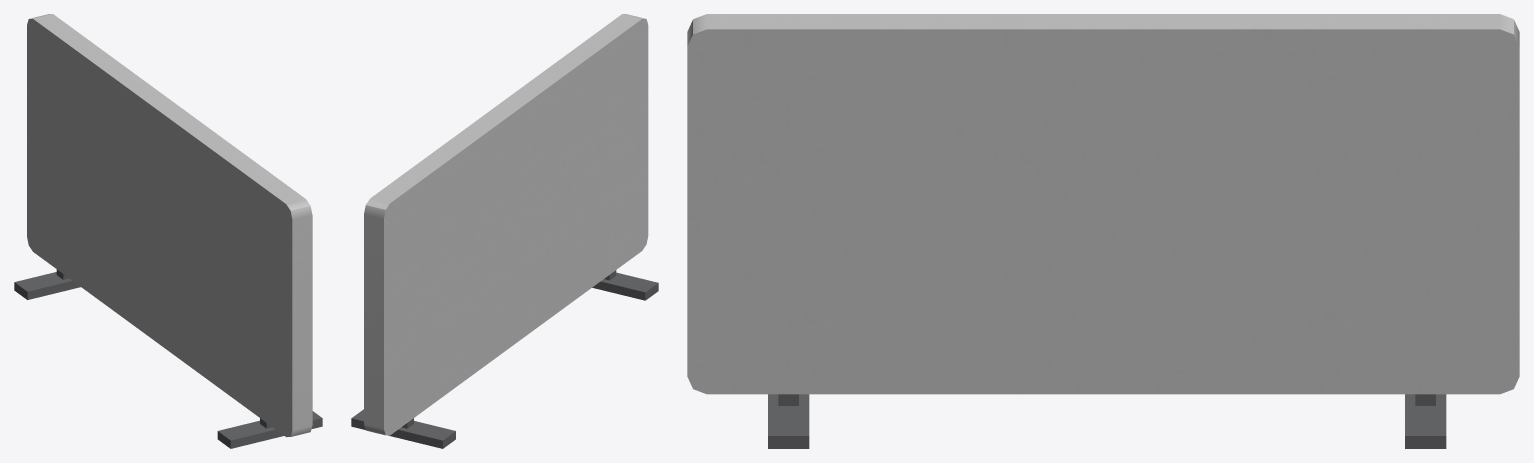
The model's file is SM_cubicle_divider_250.fbx.
3 renders of one model, left to right at view 1: azimuth 30°, elevation 25°; view 2: azimuth 150°, elevation 25°; view 3: azimuth 270°, elevation 25°, orthographic. The views are drawn at different scales.
Visible parts, largest first — view 1: cubi:Mesh, Mesh11; view 2: cubi:Mesh, Mesh11; view 3: cubi:Mesh, Mesh11.
Part boxes in pixels (left/top/right/bottom): cubi:Mesh: left=27, top=14, right=312, bottom=437; Mesh11: left=14, top=269, right=322, bottom=448; cubi:Mesh: left=364, top=14, right=648, bottom=435; Mesh11: left=351, top=270, right=658, bottom=448; cubi:Mesh: left=687, top=14, right=1519, bottom=394; Mesh11: left=768, top=394, right=1446, bottom=448.
Bounding box in the file's own units: 0.4991 × 1.3 × 2.5.
